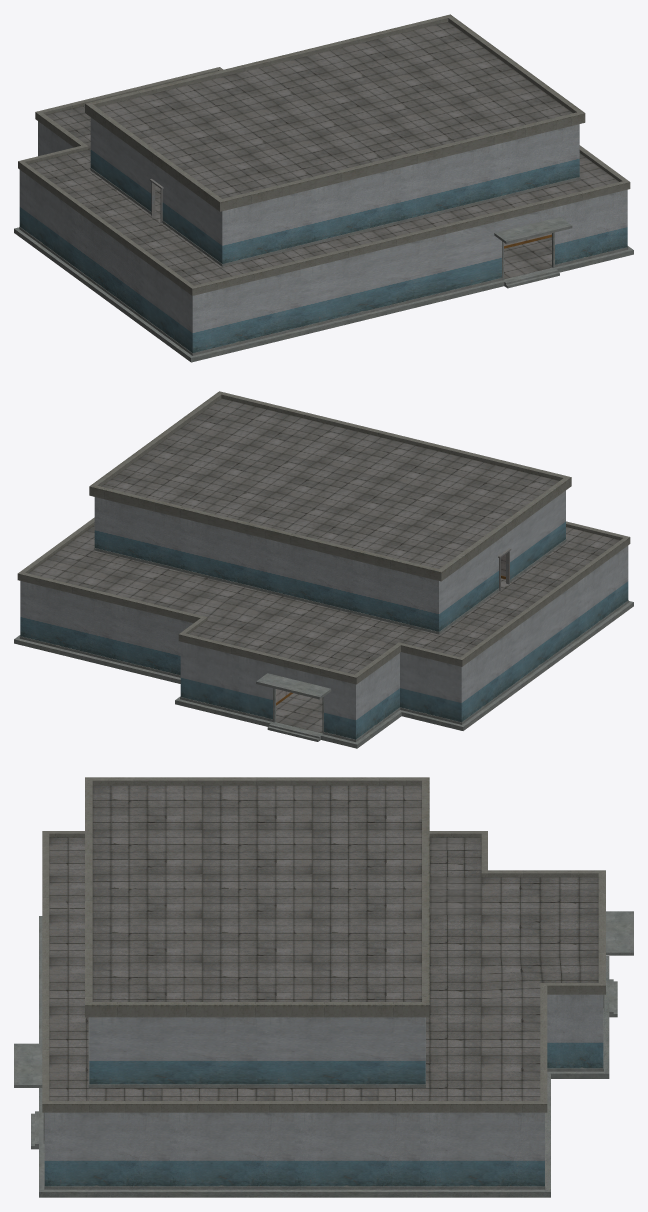
File: Building_Yjs1_lod1.glb
The picture shows the model from 3 angles, top to bottom: view 1: azimuth 30°, elevation 25°; view 2: azimuth 150°, elevation 25°; view 3: azimuth 270°, elevation 25°; orthographic projection. The views are drawn at different scales.
Parts seen in each view (by area): view 1: xiutz_yjs1_lod1; view 2: xiutz_yjs1_lod1; view 3: xiutz_yjs1_lod1.
Boxes of the visible parts, <box> form: xiutz_yjs1_lod1: <box>14,14,633,362</box>; xiutz_yjs1_lod1: <box>14,391,633,748</box>; xiutz_yjs1_lod1: <box>14,777,633,1197</box>.
Bounding box in the file's own units: 43.35 × 12.69 × 41.14.
Materials: 1 (1 with a texture image).
